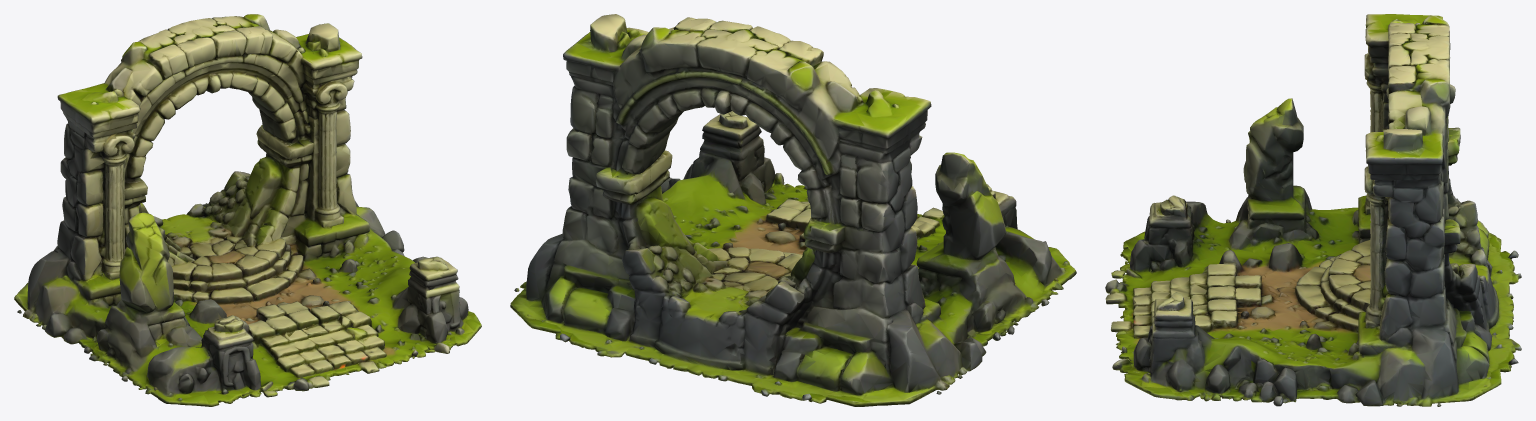
Rendered from Ancient_Gateway_Ruins.glb.
3 renders of one model, left to right at view 1: azimuth 30°, elevation 25°; view 2: azimuth 150°, elevation 25°; view 3: azimuth 270°, elevation 25°, orthographic. The views are drawn at different scales.
Parts seen in each view (by area): view 1: Ancient_Gateway_Ruins; view 2: Ancient_Gateway_Ruins; view 3: Ancient_Gateway_Ruins.
Boxes of the visible parts, <box> form: Ancient_Gateway_Ruins: <box>14,14,481,406</box>; Ancient_Gateway_Ruins: <box>510,14,1076,406</box>; Ancient_Gateway_Ruins: <box>1105,14,1521,406</box>.
Size of the model in its own units: 1.91 by 1.27 by 1.79.
Materials: 1 (1 with a texture image).
